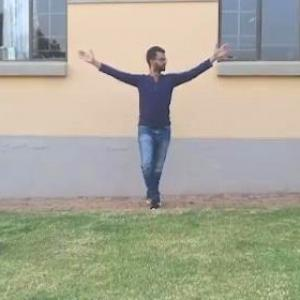takeoff: (84, 42, 230, 199)
